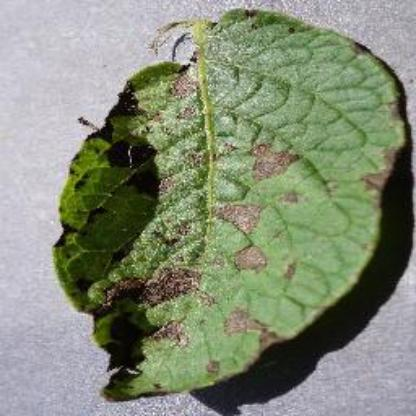Early-Blight: (49, 6, 416, 406)
